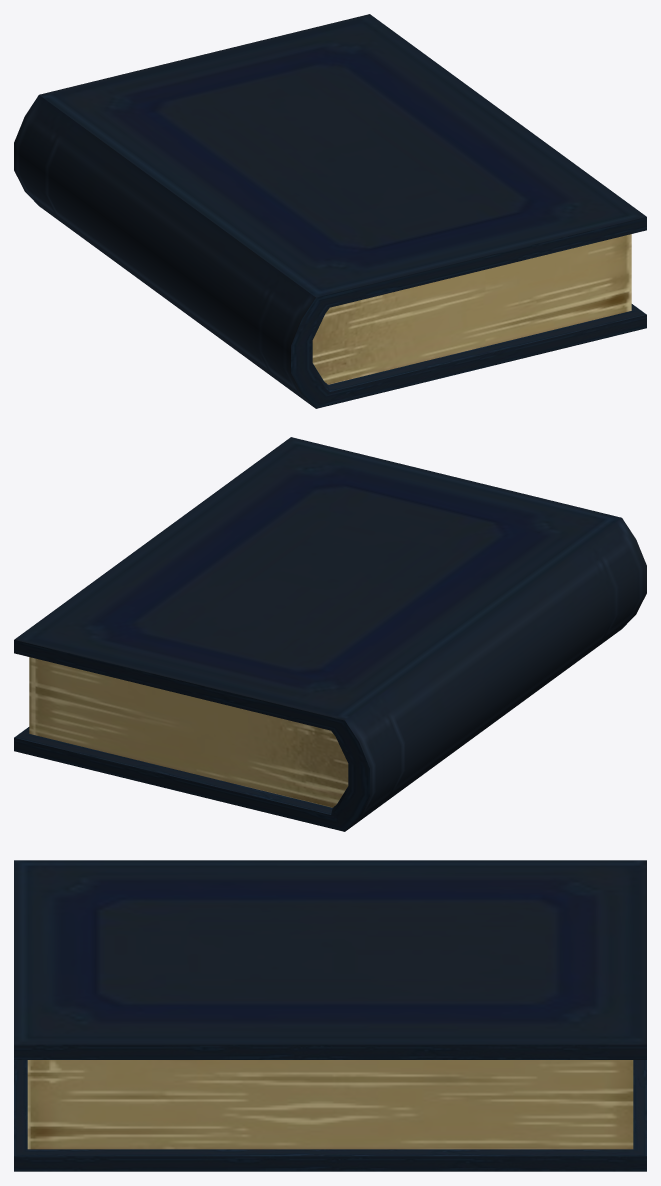
The model's file is prop_book_5.glb.
3 renders of one model, top to bottom at view 1: azimuth 30°, elevation 25°; view 2: azimuth 150°, elevation 25°; view 3: azimuth 270°, elevation 25°, orthographic. The views are drawn at different scales.
Visible parts, largest first — view 1: Book_5; view 2: Book_5; view 3: Book_5.
Part boxes in pixels (x1,y1,x2,y2): Book_5: (14,14,646,408); Book_5: (14,437,646,831); Book_5: (14,860,646,1171).
Size of the model in its own units: 0.2129 by 0.0636 by 0.2871.
Materials: 1 (1 with a texture image).
